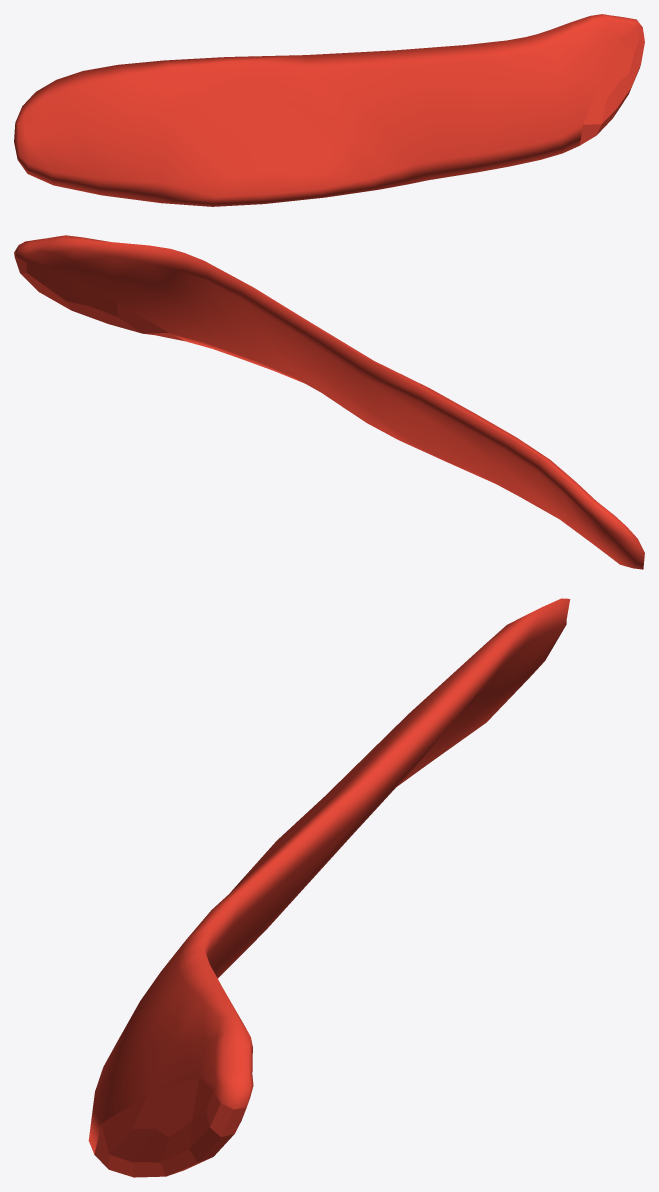
The model's file is Depressor_septi_nasi-_Insertion.r_Generated_Mesh_From_X3D.776.glb.
3 renders of one model, top to bottom at view 1: azimuth 30°, elevation 25°; view 2: azimuth 150°, elevation 25°; view 3: azimuth 270°, elevation 25°, orthographic. The views are drawn at different scales.
Parts seen in each view (by area): view 1: Depressor_septi_nasi-_Insertion.r_Generated_Mesh_From_X3D.77; view 2: Depressor_septi_nasi-_Insertion.r_Generated_Mesh_From_X3D.77; view 3: Depressor_septi_nasi-_Insertion.r_Generated_Mesh_From_X3D.77.
Boxes of the visible parts, x1=… form: Depressor_septi_nasi-_Insertion.r_Generated_Mesh_From_X3D.77: x1=14, y1=14, x2=644, y2=206; Depressor_septi_nasi-_Insertion.r_Generated_Mesh_From_X3D.77: x1=14, y1=235, x2=644, y2=569; Depressor_septi_nasi-_Insertion.r_Generated_Mesh_From_X3D.77: x1=88, y1=598, x2=570, y2=1177.
Bounding box in the file's own units: 0.0157 × 0.00297 × 0.0059.
